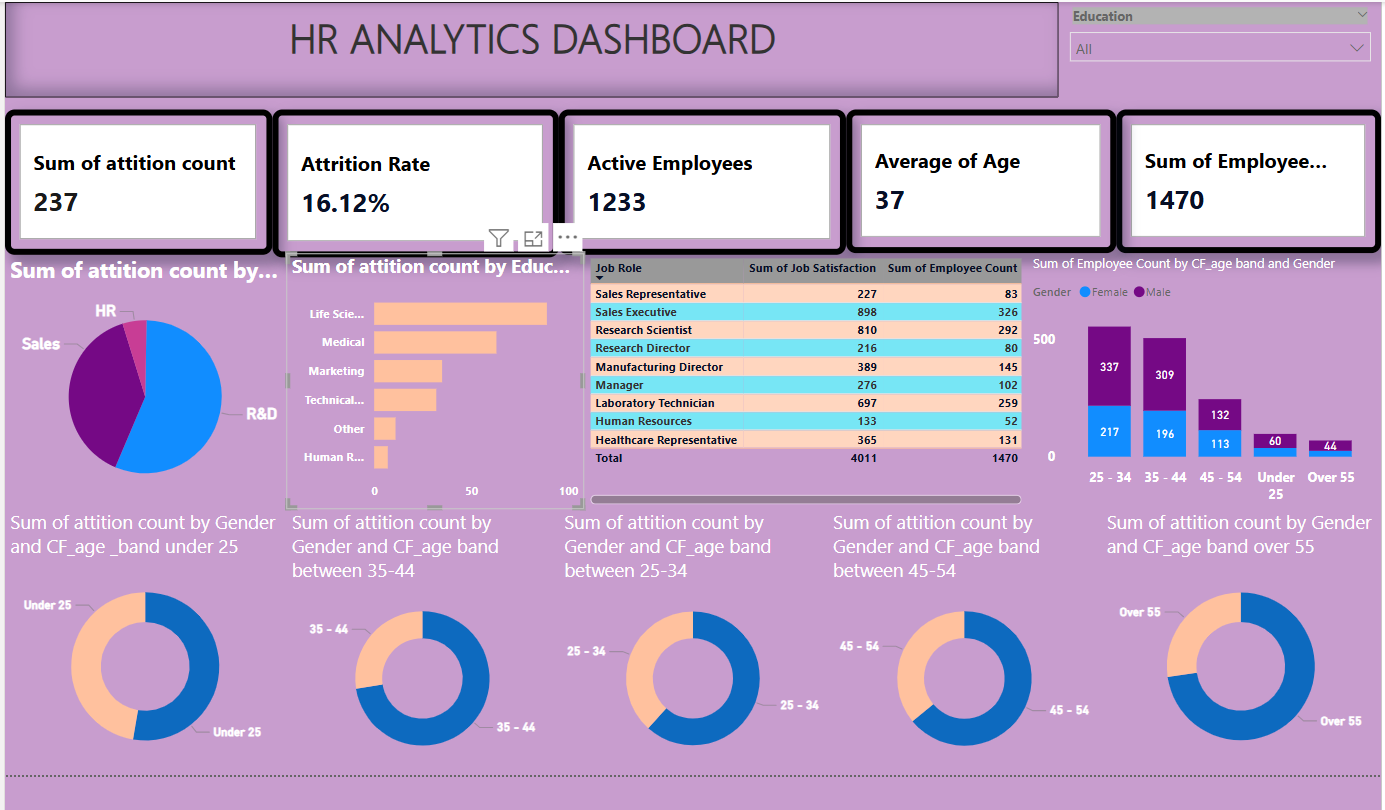

The dashboard page shown, as its layout file describes it:
{"tool":"powerbi","page":{"name":"HR_DASHBOARD","canvas":[1280,720],"ordinal":0},"visuals":[{"type":"cardVisual","fields":{"Data":["Sum(HR data.Employee Count)"]},"box":[1033.8,100,246.2,133.8],"z":0},{"type":"cardVisual","fields":{"Data":["Sum(HR data.attition count)"]},"box":[0,100,248.8,135],"z":1000},{"type":"cardVisual","fields":{"Data":["HR data.attrition rate"]},"box":[248.8,100,266.2,137.5],"z":2000},{"type":"cardVisual","fields":{"Data":["HR data.Active Employees"]},"box":[515,100,267.5,135],"z":3000},{"type":"cardVisual","title":"Average Age","fields":{"Data":["Avg(HR data.Age)"]},"box":[782.5,100,251.2,133.8],"z":4000},{"type":"pieChart","fields":{"Category":["HR data.Department"],"Y":["Sum(HR data.attition count)"]},"box":[0,235,261.2,238.8],"z":5000},{"type":"columnChart","fields":{"Category":["HR data.CF_age band"],"Y":["Sum(HR data.Employee Count)"],"Series":["HR data.Gender"]},"box":[951.2,235,328.8,238.8],"z":6000},{"type":"tableEx","fields":{"Values":["HR data.Job Role","Sum(HR data.Job Satisfaction)","Sum(HR data.Employee Count)"]},"box":[538.8,233.8,412.5,238.8],"z":6001},{"type":"barChart","fields":{"Category":["HR data.Education Field"],"Y":["Sum(HR data.attition count)"]},"box":[261.2,233.8,277.5,238.8],"z":6002},{"type":"donutChart","title":"Sum of attition count by Gender and CF_age band between 25-34","fields":{"Category":["HR data.Gender"],"Y":["Sum(HR data.attition count)"],"Series":["HR data.CF_age band"]},"box":[515,472.5,250,247.5],"z":6003},{"type":"donutChart","title":"Sum of attition count by Gender and CF_age band between 35-44","fields":{"Category":["HR data.Gender"],"Y":["Sum(HR data.attition count)"],"Series":["HR data.CF_age band"]},"box":[261.2,472.5,253.8,247.5],"z":6004},{"type":"donutChart","title":"Sum of attition count by Gender and CF_age band between 45-54","fields":{"Category":["HR data.Gender"],"Y":["Sum(HR data.attition count)"],"Series":["HR data.CF_age band"]},"box":[765,472.5,255,247.5],"z":6005},{"type":"donutChart","title":"Sum of attition count by Gender and CF_age band over 55","fields":{"Category":["HR data.Gender"],"Y":["Sum(HR data.attition count)"],"Series":["HR data.CF_age band"]},"box":[1020,472.5,260,247.5],"z":6006},{"type":"donutChart","title":"Sum of attition count by Gender and CF_age _band under 25","fields":{"Category":["HR data.Gender"],"Y":["Sum(HR data.attition count)"],"Series":["HR data.CF_age band"]},"box":[0,472.5,261.2,247.5],"z":6007},{"type":"textbox","box":[0,0,980,88.8],"z":6008},{"type":"slicer","fields":{"Values":["HR data.Education"]},"box":[980,0,300,88.8],"z":6009}]}

Visuals, with their boxes in screenshot pixels (x1, y1, x2, y2):
cardVisual - Sum(HR data.Employee Count): 1103:107:1366:249
cardVisual - Sum(HR data.attition count): 0:107:265:251
cardVisual - HR data.attrition rate: 265:107:550:253
cardVisual - HR data.Active Employees: 550:107:835:251
"Average Age" cardVisual: 835:107:1103:249
pieChart - HR data.Department x Sum(HR data.attition count): 0:251:279:506
columnChart - HR data.CF_age band x Sum(HR data.Employee Count): 1015:251:1366:506
tableEx - HR data.Job Role x Sum(HR data.Job Satisfaction): 575:249:1015:504
barChart - HR data.Education Field x Sum(HR data.attition count): 279:249:575:504
"Sum of attition count by Gender and CF_age band between 25-34" donutChart: 550:504:816:768
"Sum of attition count by Gender and CF_age band between 35-44" donutChart: 279:504:550:768
"Sum of attition count by Gender and CF_age band between 45-54" donutChart: 816:504:1088:768
"Sum of attition count by Gender and CF_age band over 55" donutChart: 1088:504:1366:768
"Sum of attition count by Gender and CF_age _band under 25" donutChart: 0:504:279:768
textbox: 0:0:1046:95
slicer - HR data.Education: 1046:0:1366:95
